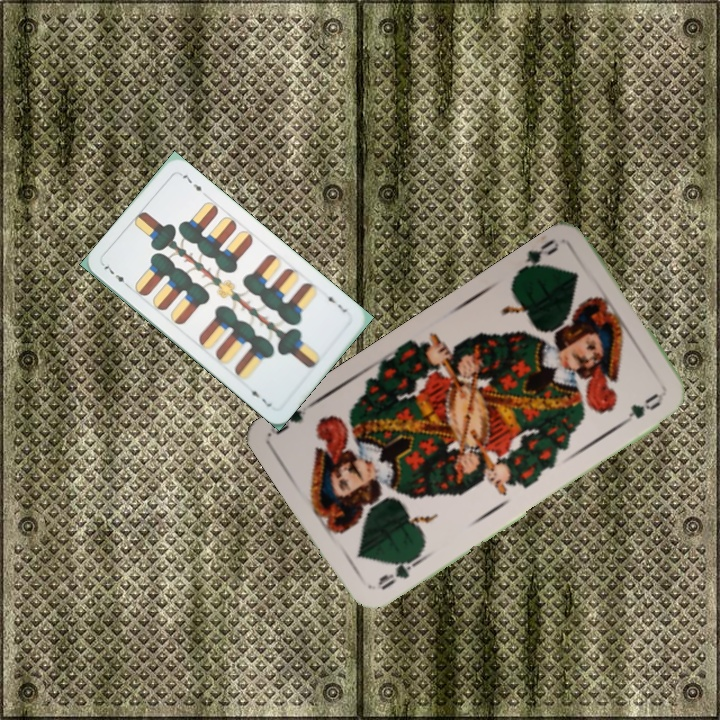E7: (99, 259, 133, 290), (321, 289, 349, 315)
GO: (512, 234, 562, 277), (374, 552, 425, 593)
